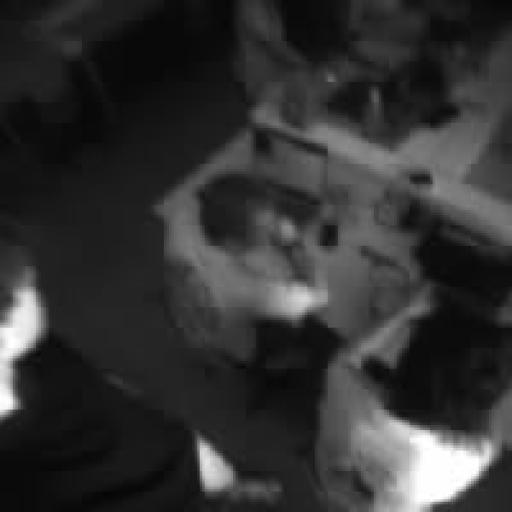human: (0, 223, 279, 511), (315, 295, 511, 511), (167, 172, 337, 363), (236, 0, 422, 102)
